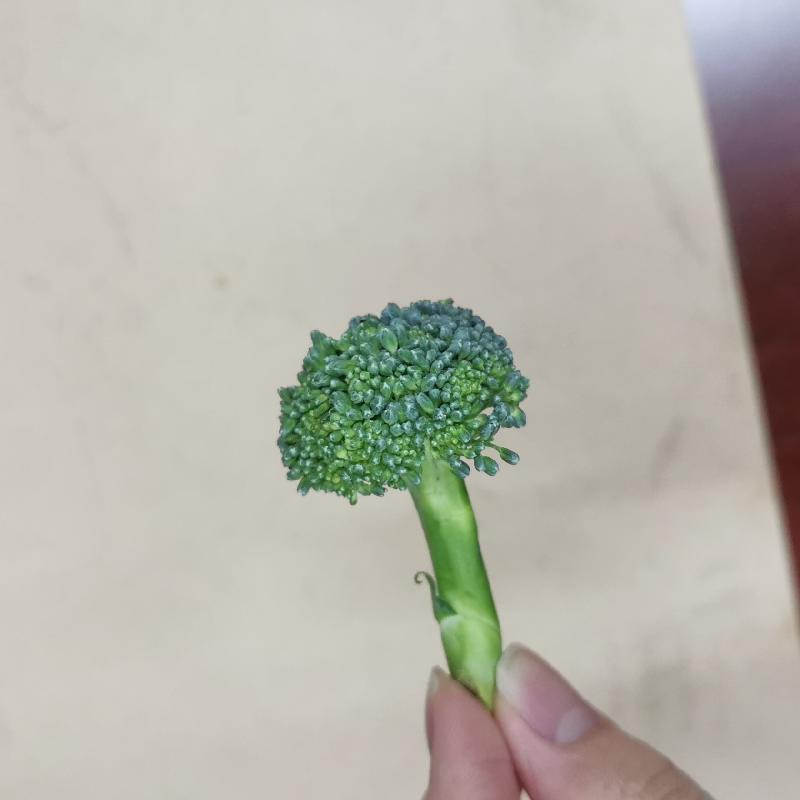broccoli: (270, 298, 534, 708)
